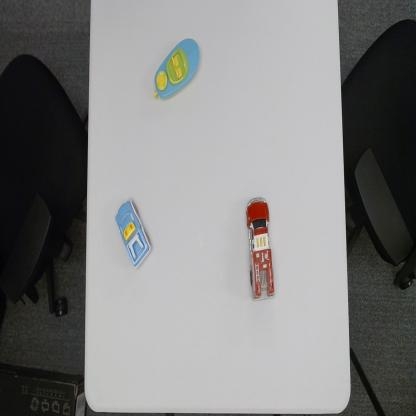Boat: (152, 37, 200, 101)
Car: (114, 197, 153, 270)
Firetruck: (246, 195, 276, 303)
